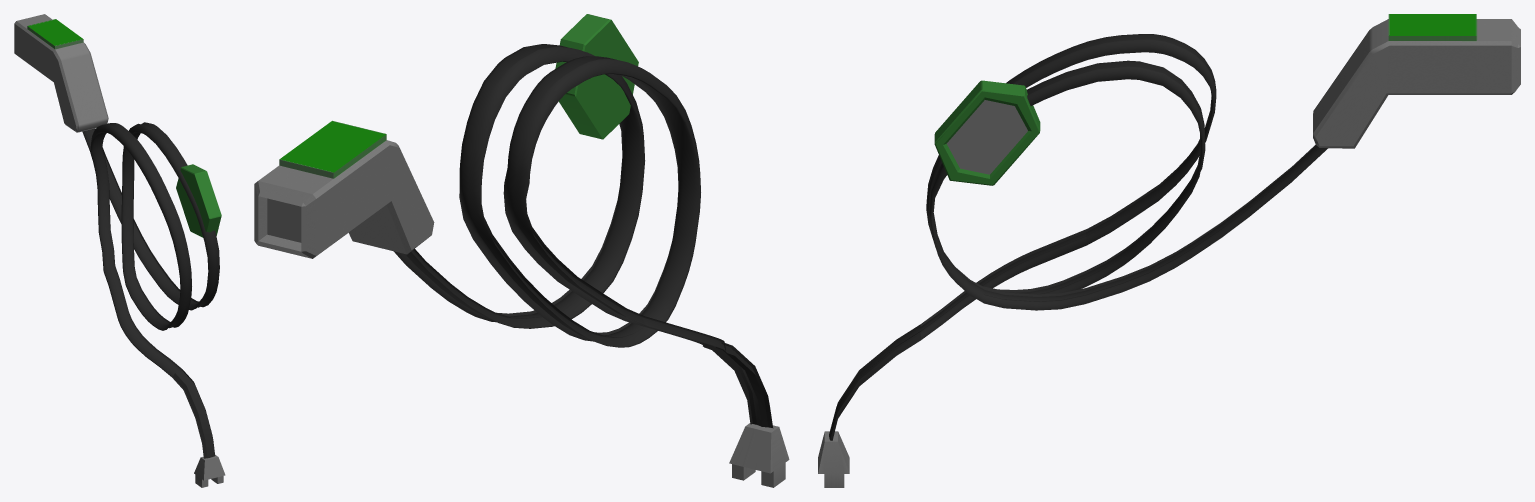
File: CHARGER-au2jkPJ8.glb
3 renders of one model, left to right at view 1: azimuth 30°, elevation 25°; view 2: azimuth 150°, elevation 25°; view 3: azimuth 270°, elevation 25°, orthographic. The views are drawn at different scales.
Size of the model in its own units: 2.51 by 8.93 by 11.82.
Materials: 4 (3 with a texture image).
